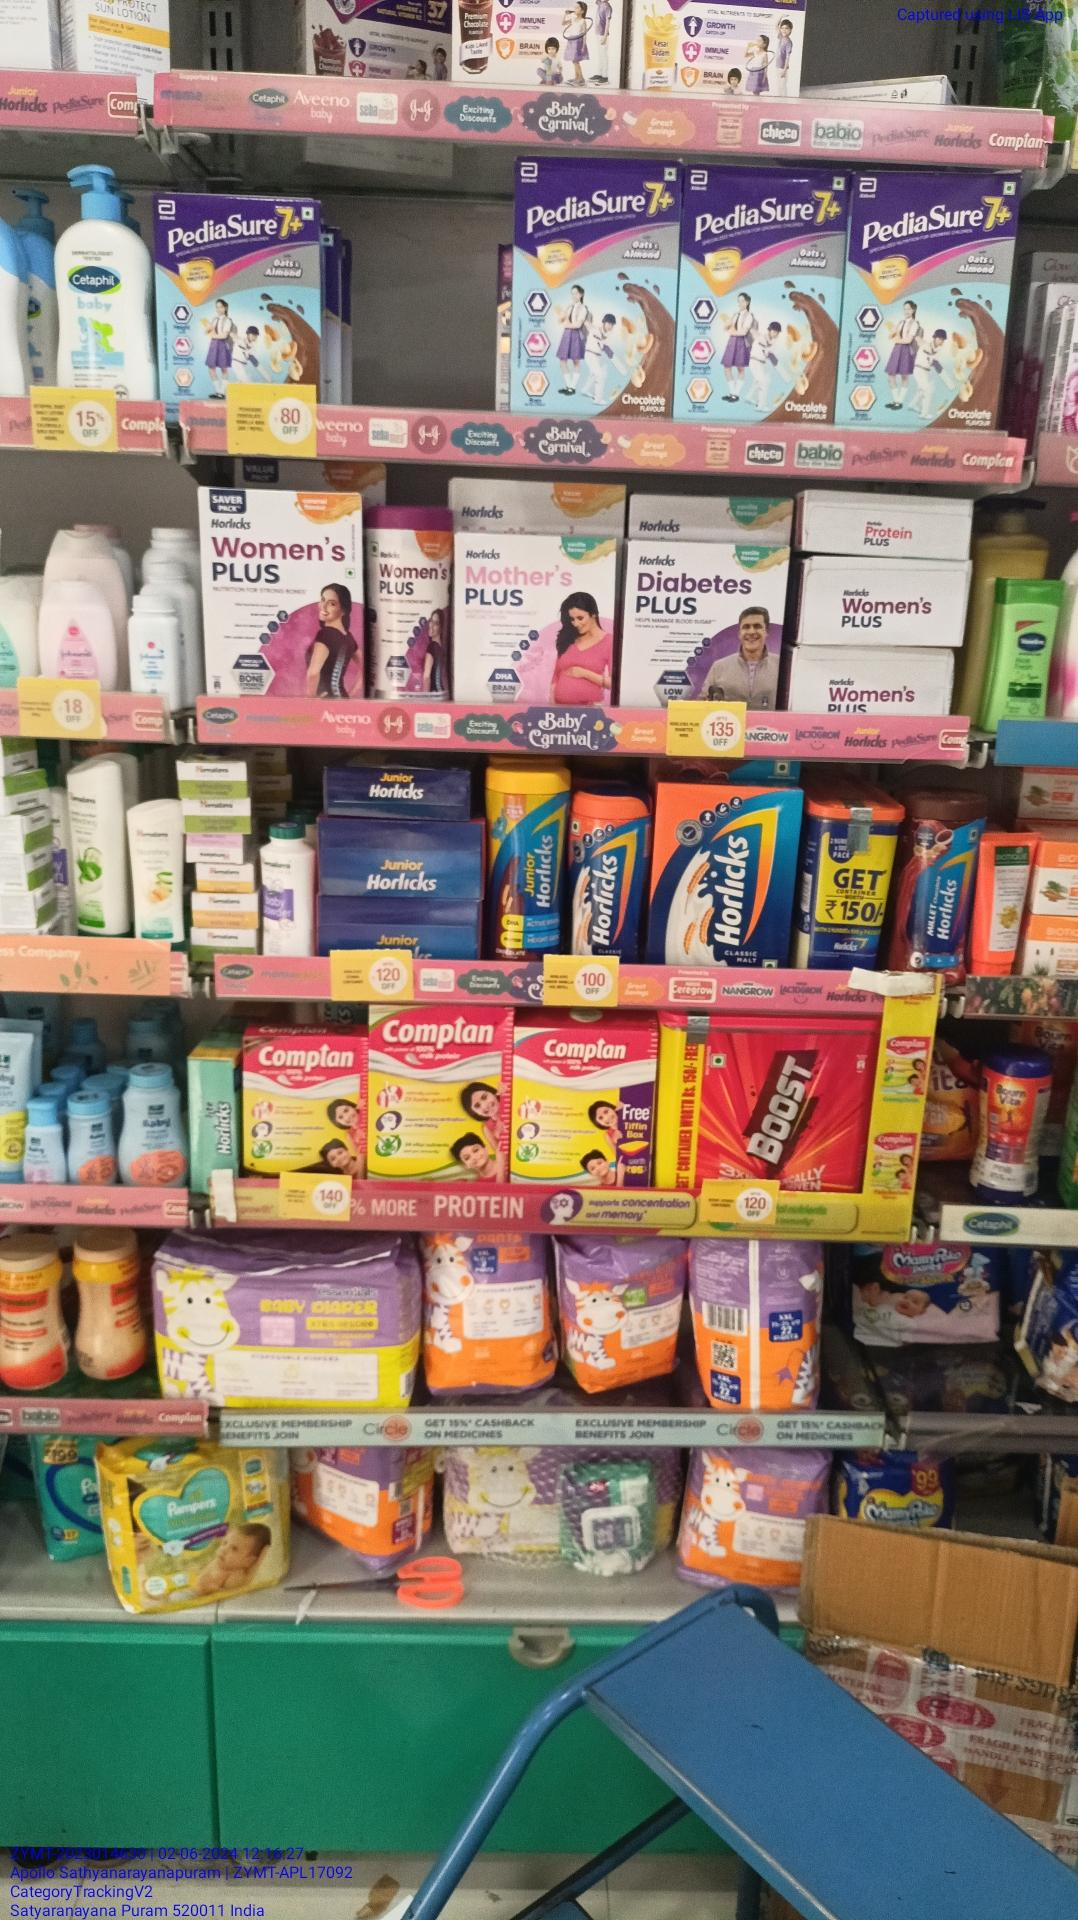HORLICKS_JUNIOR_VANILLA_500_GM_JAR: (493, 754, 577, 964)
HORLICK_CLASSIC_MALT_500_G_JAR: (573, 787, 645, 956)
HORLICK_CLASSIC_MALT_500_G_PACK: (654, 771, 786, 967)
PEDIASURE_7_PLUS_CHOCOLATE_400_G_PACK: (160, 204, 317, 404)
